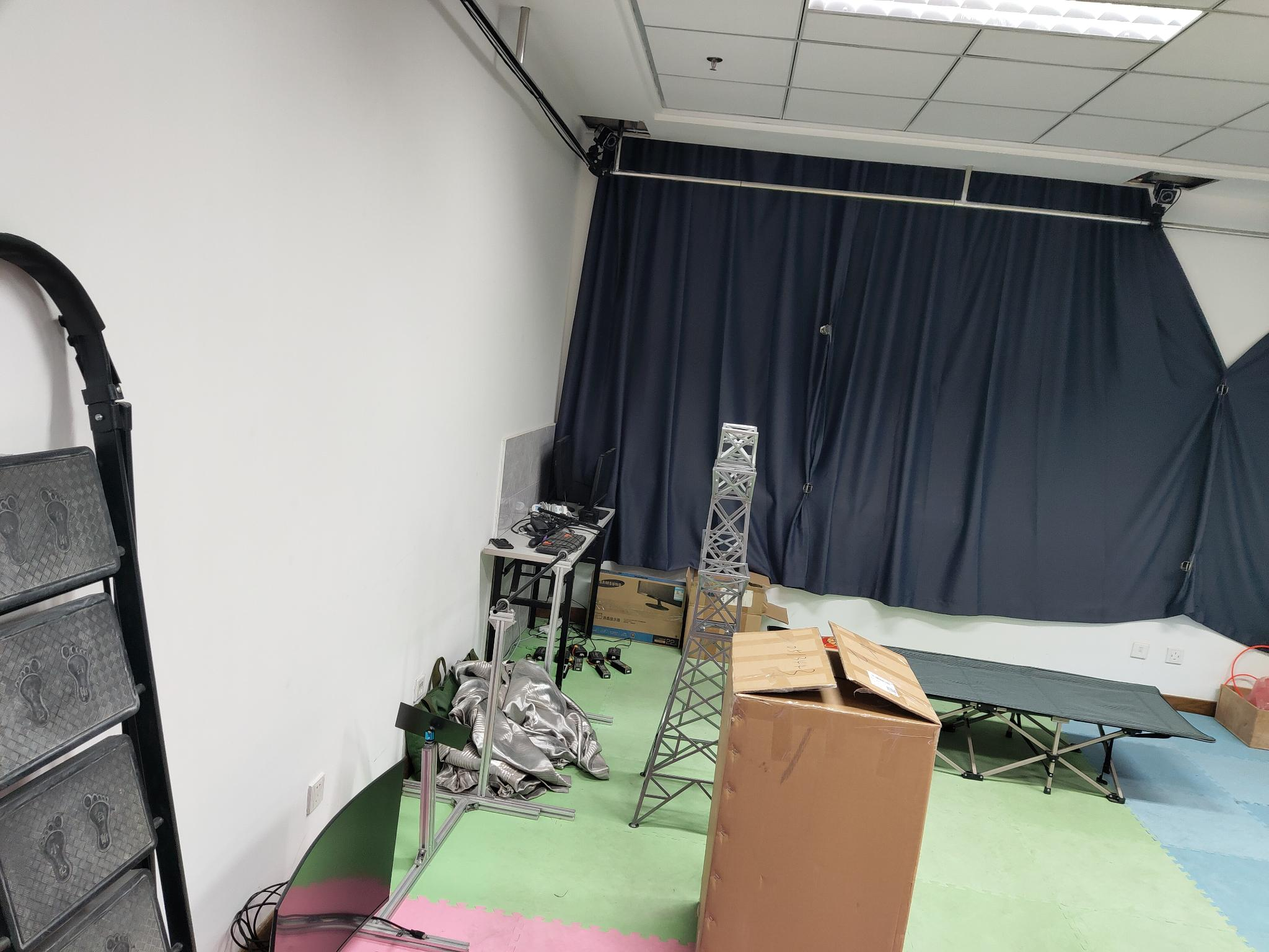tower: (627, 420, 757, 820)
